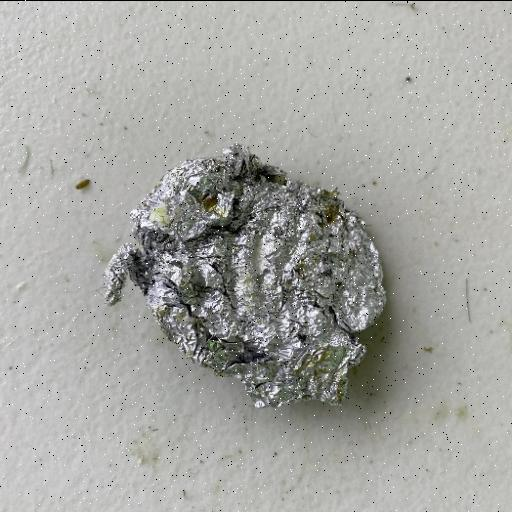Metal: (99, 142, 389, 410)
